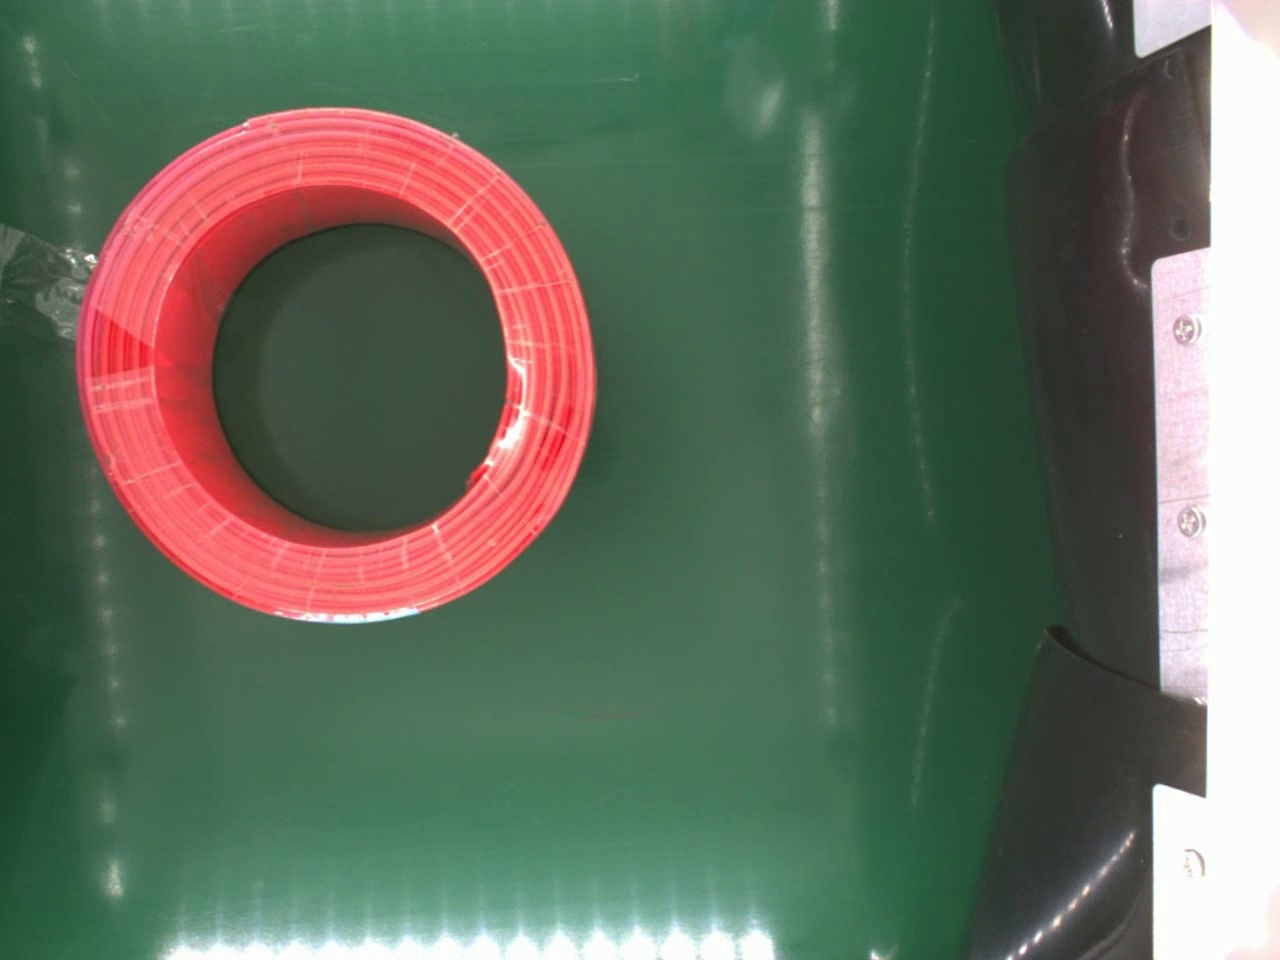red: (70, 105, 599, 631)
